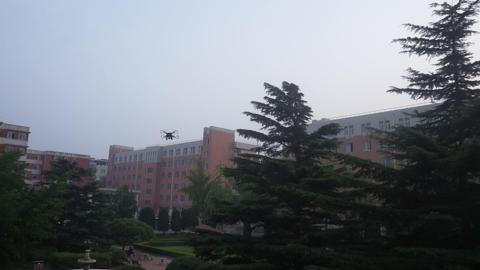UAV: (160, 130, 180, 141)
